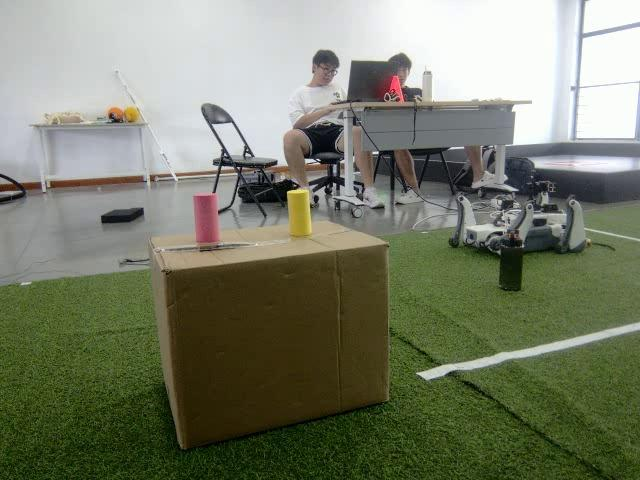red_cylinder: (191, 191, 220, 245)
yellow_cylinder: (286, 187, 314, 237)
